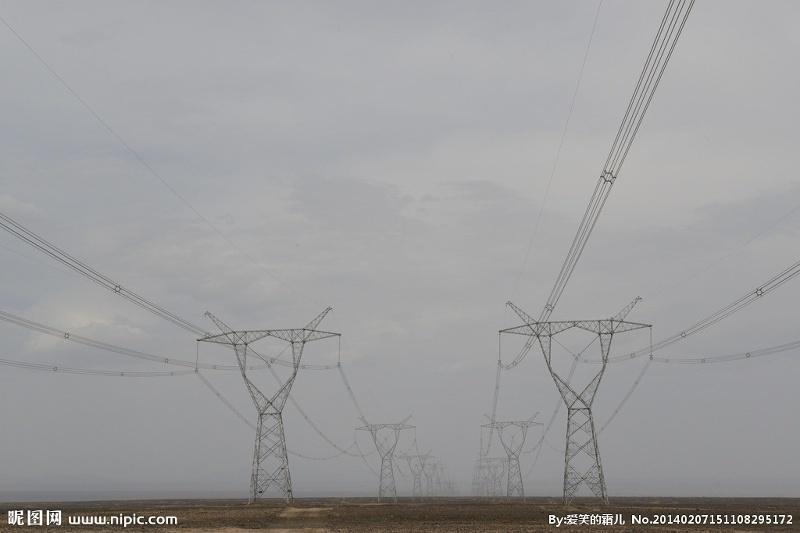power_tower: (497, 295, 654, 509), (194, 304, 342, 499), (354, 414, 418, 501), (479, 411, 543, 498), (396, 448, 438, 502), (476, 452, 514, 496), (414, 458, 446, 502)
